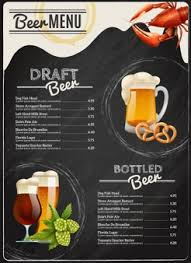not-coke: (11, 178, 46, 244)
